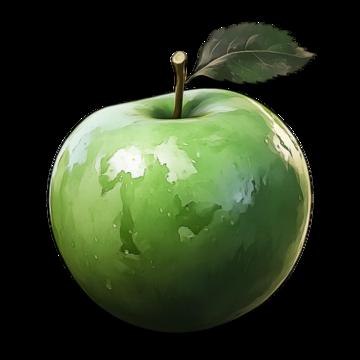apples: (48, 33, 315, 319)
